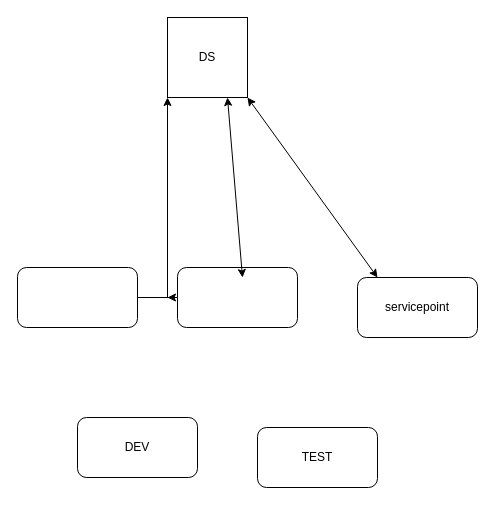
Image size: 495x505. Some labels were removed from this diagram. The centre of each missing label's shape, as x and y in pixels:
"CRM" goes at [237,297].
"sales" goes at [77,297].
